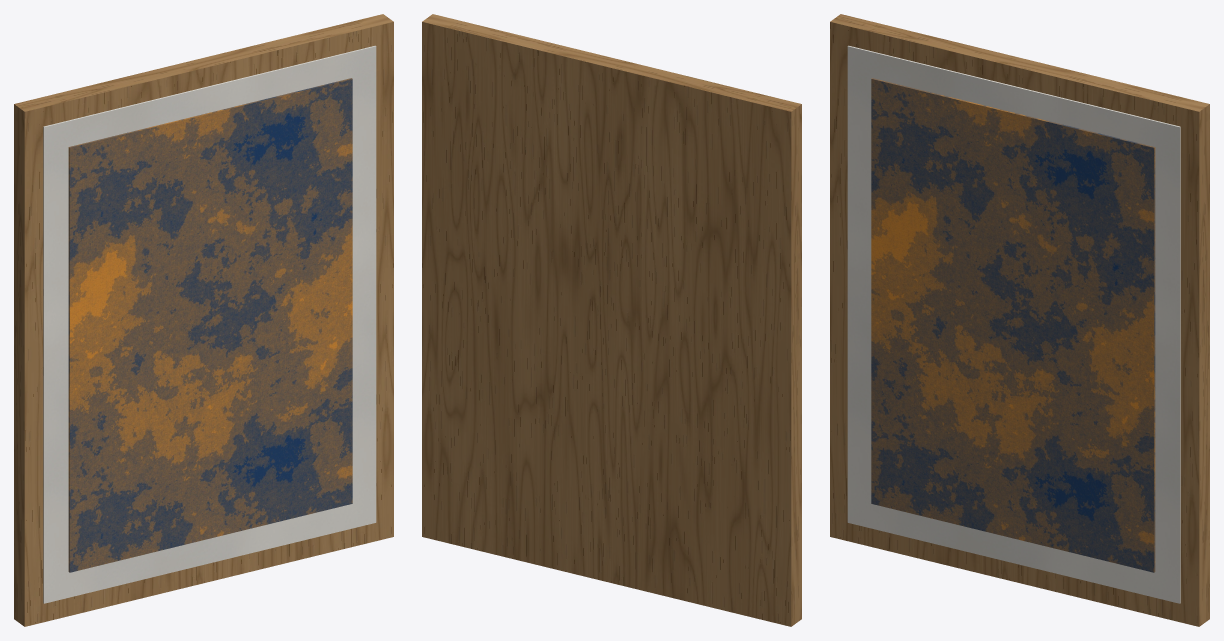
The picture shows the model from 3 angles, left to right: view 1: azimuth 30°, elevation 25°; view 2: azimuth 150°, elevation 25°; view 3: azimuth 330°, elevation 25°; orthographic projection.
Parts seen in each view (by area): view 1: WallArt_Game; view 2: WallArt_Game; view 3: WallArt_Game.
Part boxes in pixels (x1=…): WallArt_Game: x1=14, y1=14, x2=393, y2=626; WallArt_Game: x1=422, y1=14, x2=801, y2=626; WallArt_Game: x1=830, y1=14, x2=1209, y2=626.
Bounding box in the file's own units: 0.6 × 0.8 × 0.0355.
3 materials, 3 textured.
